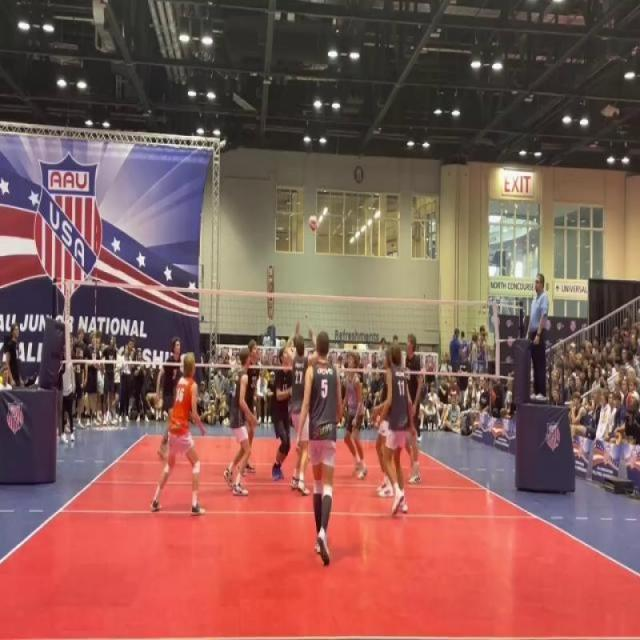volleyball: (307, 213, 320, 234)
